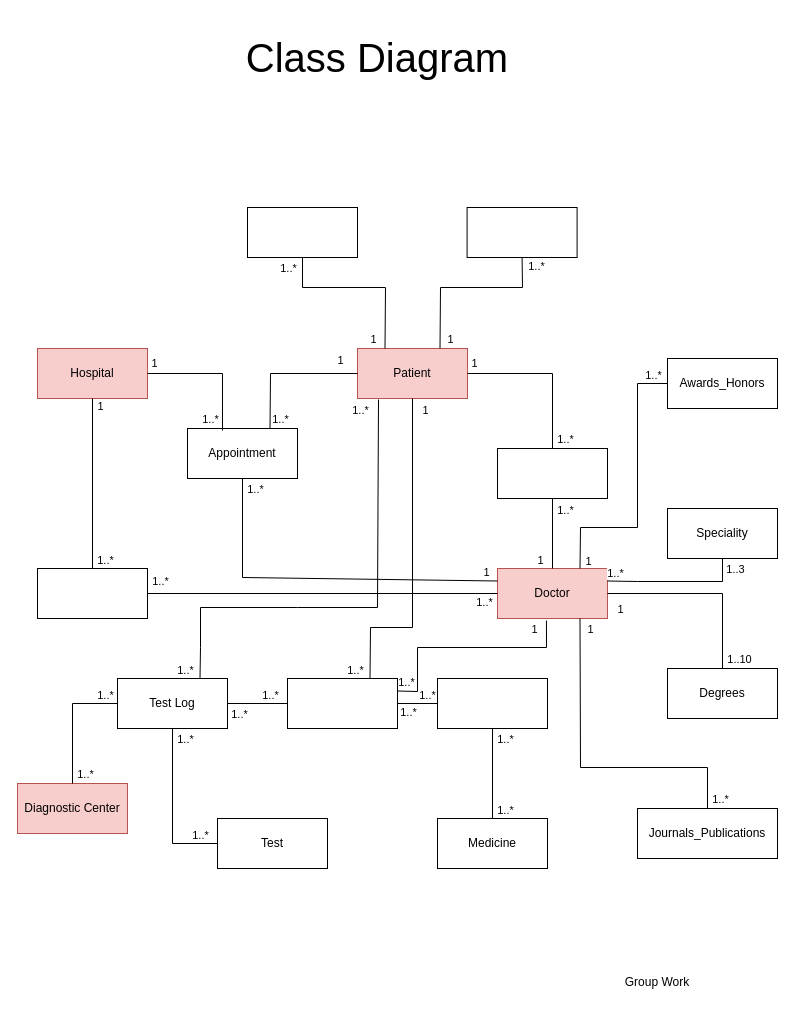
Image size: 795x1014. Some labels were removed from this diagram. Each missing label, with the box of its shape:
Allergies_Log: (466, 206, 577, 258)
Consultations: (36, 568, 148, 618)
Doctor Reviews: (496, 448, 608, 498)
Prescribed_In: (436, 678, 548, 728)
Prescriptions: (286, 678, 398, 728)
Vaccine_Log: (246, 206, 358, 258)
